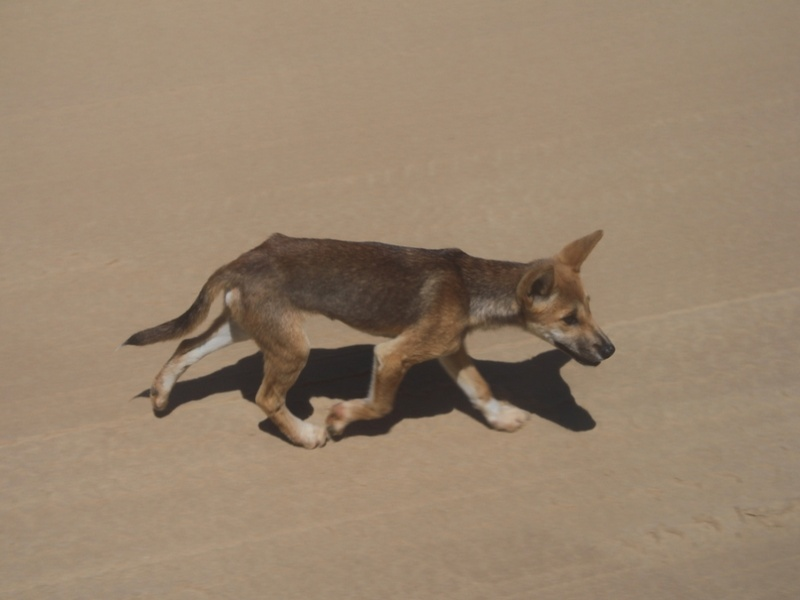dog: (116, 223, 618, 456)
